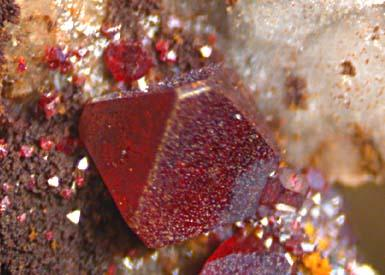cuprite: (79, 69, 280, 248), (201, 235, 292, 274), (104, 41, 154, 84), (38, 90, 61, 120), (44, 46, 65, 66), (45, 231, 56, 250), (20, 145, 35, 158), (40, 137, 54, 150), (26, 175, 35, 192), (28, 227, 38, 242), (17, 213, 25, 222)
